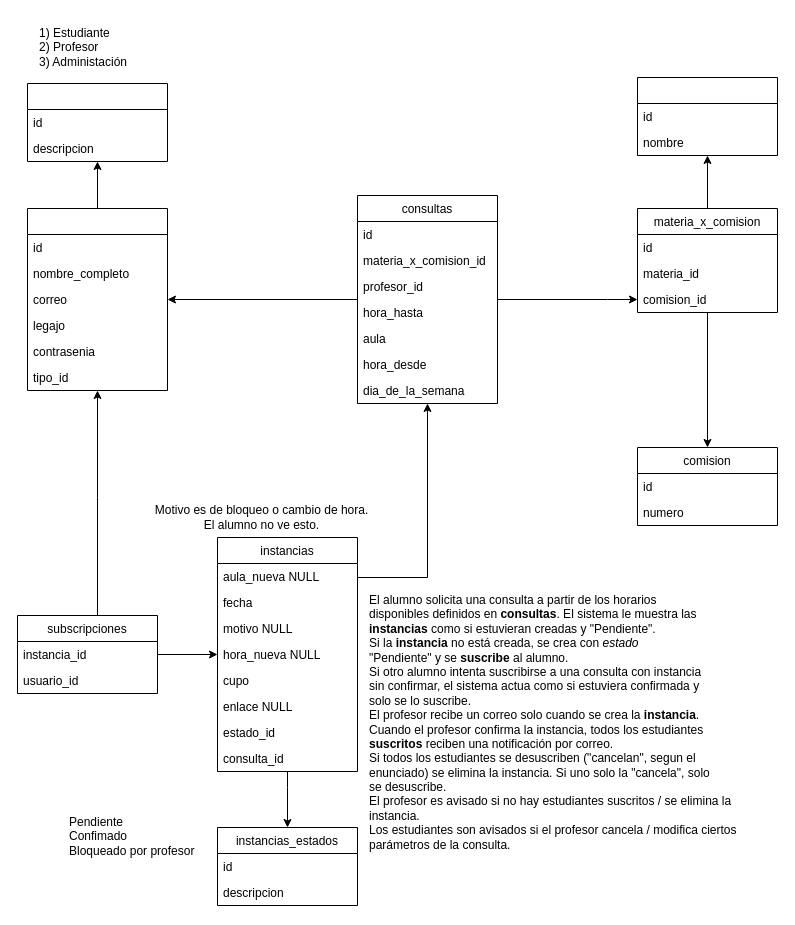
Some shapes in this 795 by 925 pixel diagram are drawn without their labels. Here are the shapes that lost their labels. From the top down, the box of each, then its label:
(26, 82, 168, 162): usuarios_tipos
(636, 76, 778, 156): materia
(26, 208, 168, 390): usuarios
